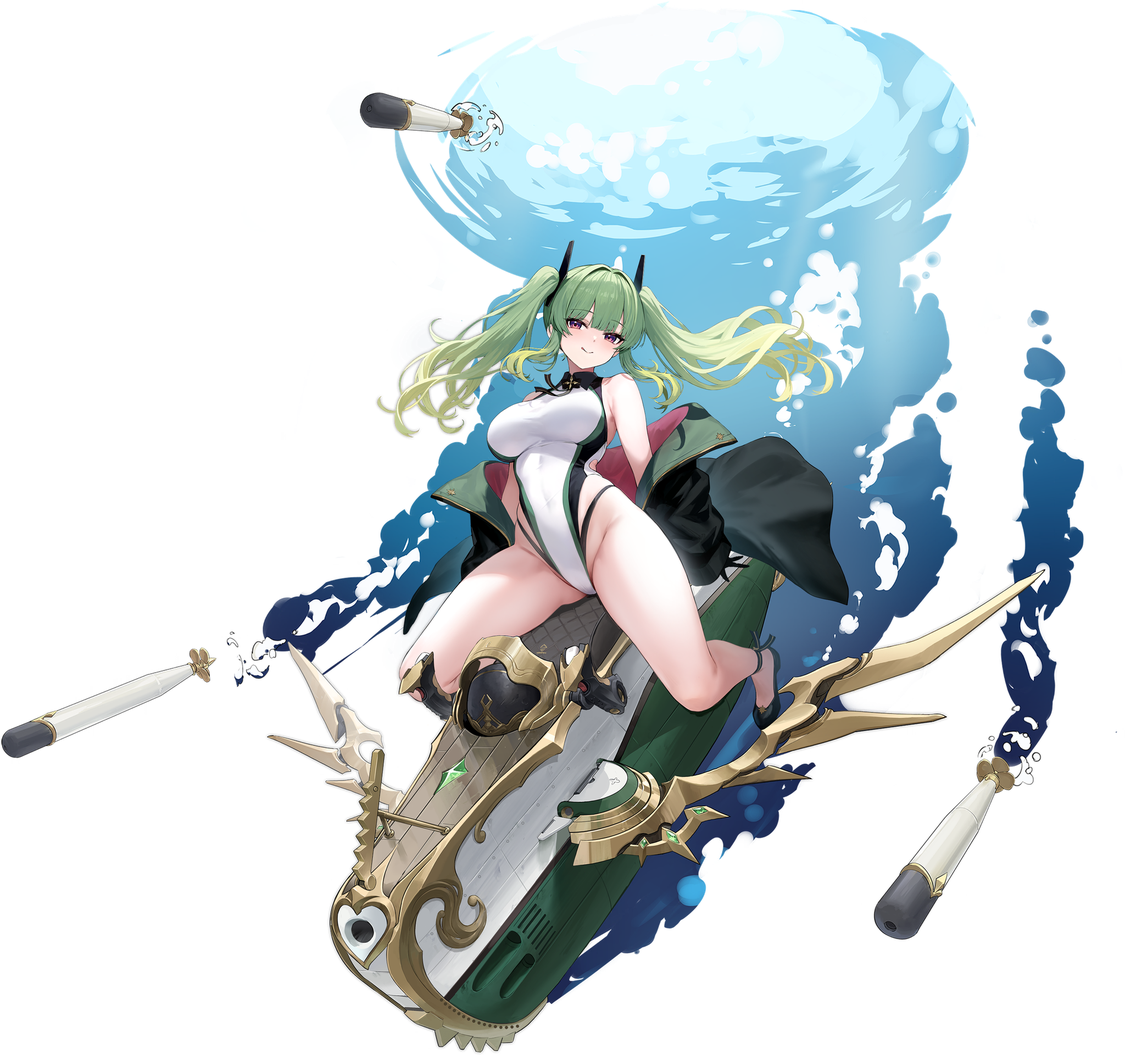person: (363, 215, 836, 1007)
